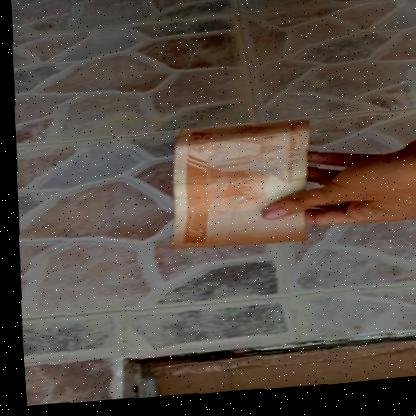twenty-back-vef: (160, 122, 311, 258)
